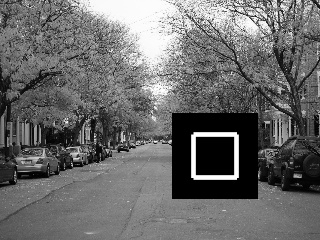square: (172, 113, 258, 199)
